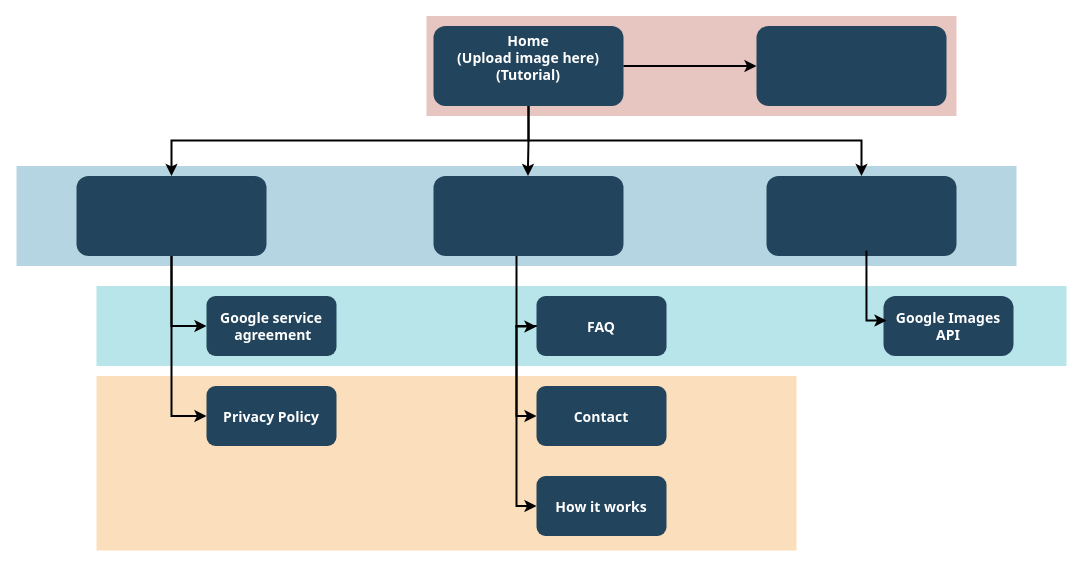
Image size: 1083x567. Some labels were removed from this diagram. Here are the shapes that lost their labels. From the top down, the centre of each, then its label:
the point at 851,66: App Functionality (Search returned)
the point at 171,216: About Us (What is RepostBuster)
the point at 528,216: Help Center
the point at 861,216: Our Technology
